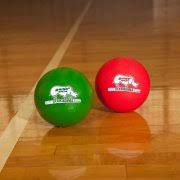red ball: (95, 56, 151, 113)
